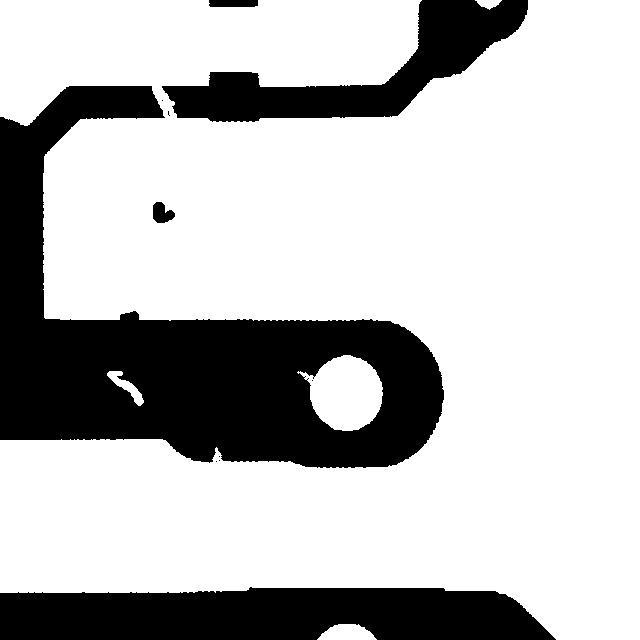copper: (143, 192, 184, 232)
mousebite: (287, 361, 323, 397), (202, 437, 232, 473)
open: (142, 72, 186, 131)
pin-hole: (97, 361, 153, 415)
spur: (110, 301, 148, 336)
